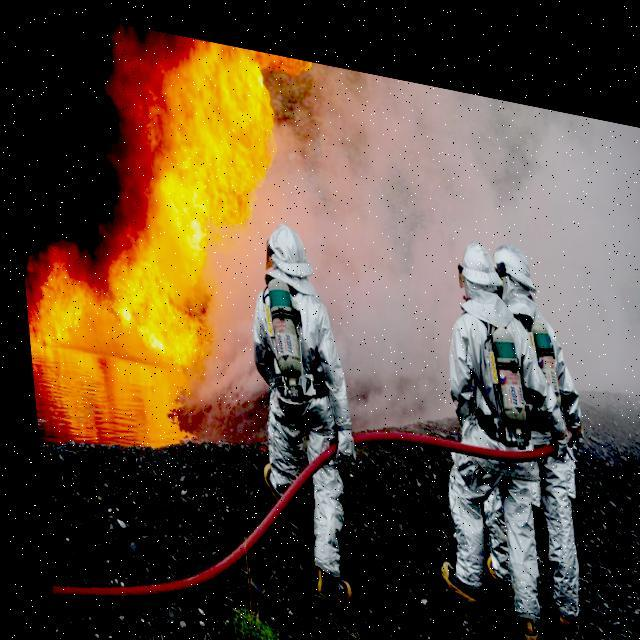Fire: (0, 0, 336, 387)
